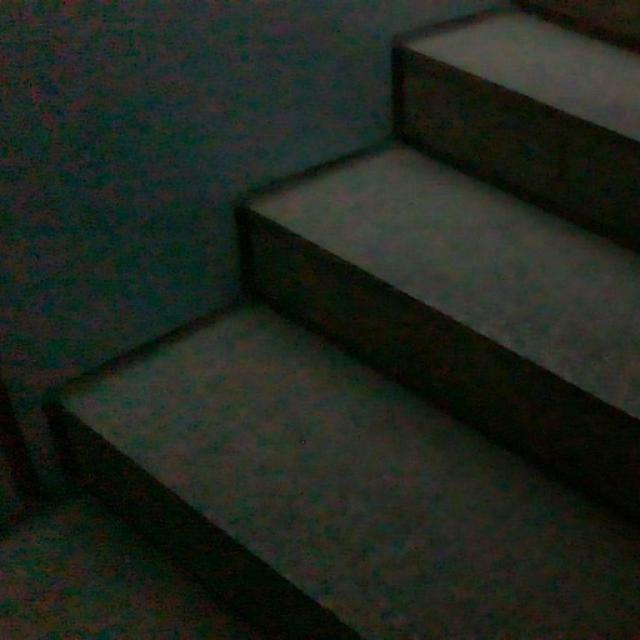stair: (41, 26, 640, 621)
